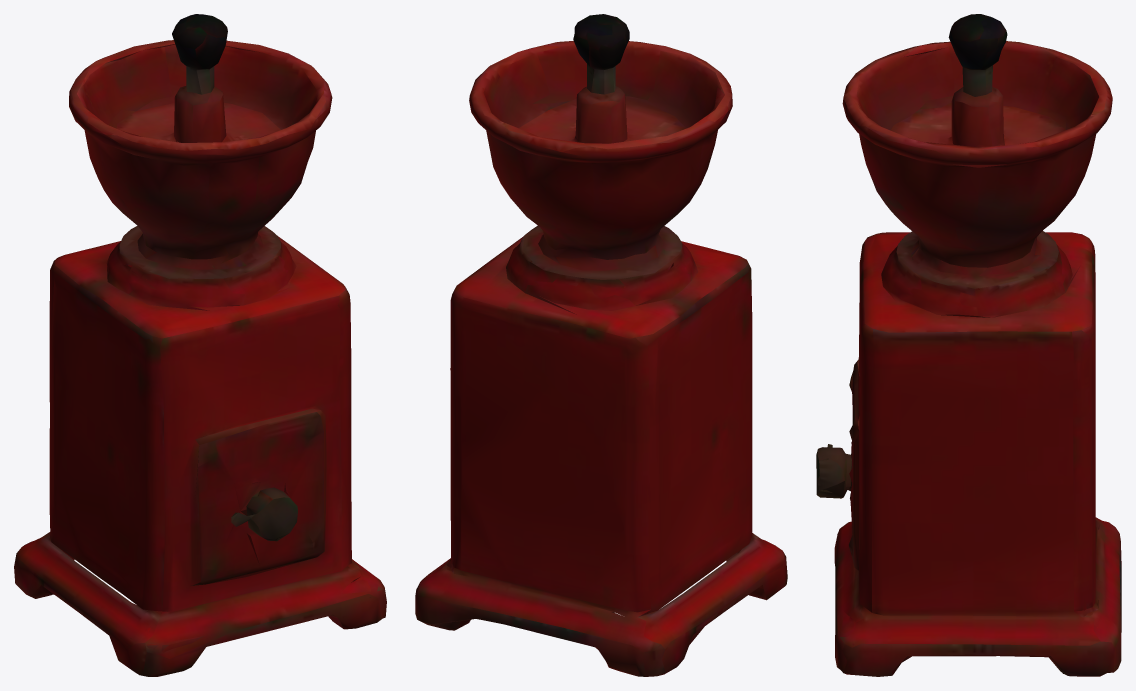
Rendered from grinder.glb.
3 renders of one model, left to right at view 1: azimuth 30°, elevation 25°; view 2: azimuth 150°, elevation 25°; view 3: azimuth 270°, elevation 25°, orthographic. The views are drawn at different scales.
Parts seen in each view (by area): view 1: grinder; view 2: grinder; view 3: grinder.
Boxes of the visible parts, <box> form: grinder: <box>14,14,386,676</box>; grinder: <box>415,14,787,676</box>; grinder: <box>816,14,1121,676</box>.
Size of the model in its own units: 0.2493 by 0.55 by 0.255.
Materials: 1 (1 with a texture image).
